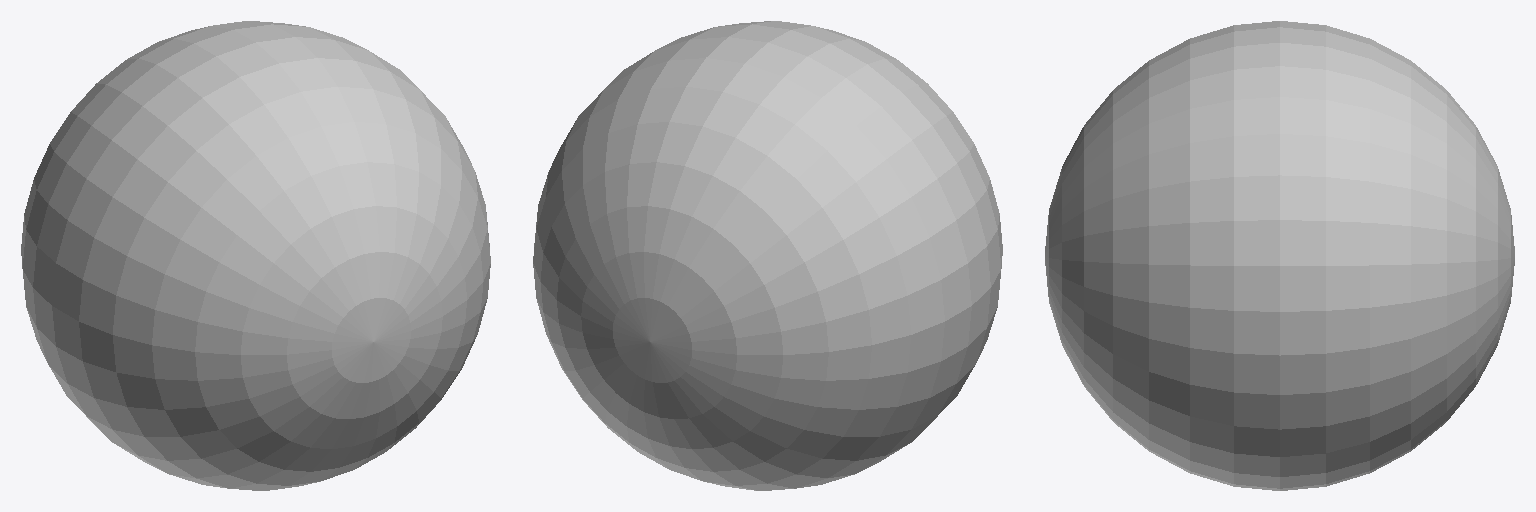
The model's file is moon.obj.
3 renders of one model, left to right at view 1: azimuth 30°, elevation 25°; view 2: azimuth 150°, elevation 25°; view 3: azimuth 270°, elevation 25°, orthographic.
Parts seen in each view (by area): view 1: Sphere.004; view 2: Sphere.004; view 3: Sphere.004.
Boxes of the visible parts, <box> form: Sphere.004: <box>21,21,490,490</box>; Sphere.004: <box>533,21,1002,490</box>; Sphere.004: <box>1045,21,1514,490</box>.
Size of the model in its own units: 0.9605 by 0.9605 by 0.9605.